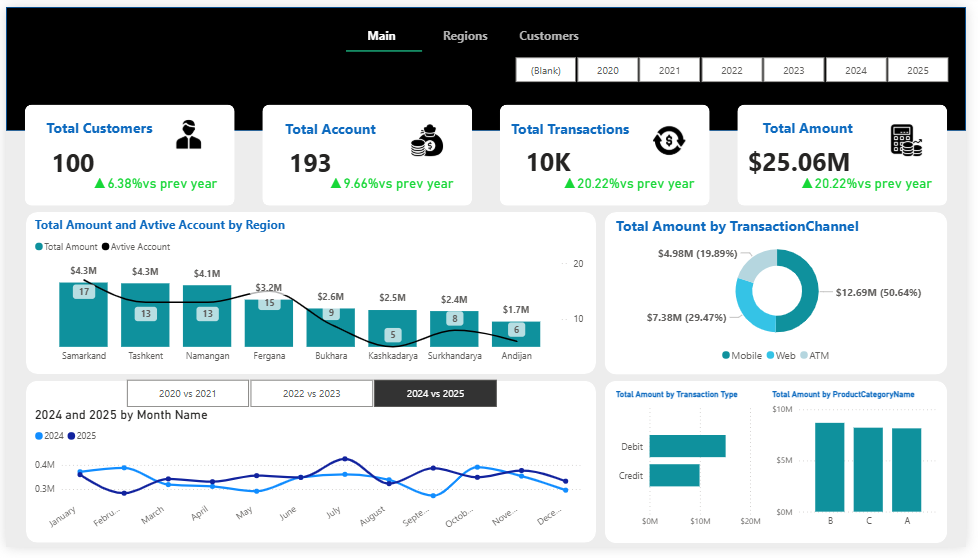

What the dashboard file says about the page in this screenshot:
{"tool":"powerbi","page":{"name":"Main","canvas":[1280,720],"ordinal":0},"visuals":[{"type":"shape","box":[0,0,1280,165],"z":0},{"type":"shape","box":[25,130,280,135],"z":1000},{"type":"shape","box":[341.7,130,280,135],"z":2000},{"type":"shape","box":[975,130,280,135],"z":3000},{"type":"shape","box":[658.3,130,280,135],"z":4000},{"type":"card","fields":{"Values":["Measure Table.total Customers"]},"box":[25,178.8,128.8,57.5],"z":5000},{"type":"textbox","box":[33.8,143.8,187.5,41.2],"z":6000},{"type":"image","box":[209.2,143.8,67.7,53.1],"z":7000},{"type":"slicer","fields":{"Values":["calendar.Year"]},"box":[652.9,60,627.1,47.1],"z":8000},{"type":"card","fields":{"Values":["Measure Table.formatted cusYOY"]},"box":[90,217.1,217.1,38.6],"z":9000},{"type":"card","fields":{"Values":["Measure Table.total account"]},"box":[341.4,178.6,128.6,57.1],"z":10000},{"type":"textbox","box":[341.4,144.3,187.1,41.4],"z":11000},{"type":"image","box":[528.5,152.3,66.9,52.3],"z":12000},{"type":"card","fields":{"Values":["Measure Table.formatted accYOY"]},"box":[404.6,216.9,216.9,38.5],"z":13000},{"type":"card","fields":{"Values":["Measure Table.total trnsaction"]},"box":[658.9,178.9,128.9,56.7],"z":14000},{"type":"textbox","box":[658.9,144.4,187.8,41.1],"z":15000},{"type":"image","box":[846.7,152.2,74.4,53.3],"z":16000},{"type":"card","fields":{"Values":["Measure Table.formatted tranYOY"]},"box":[722.2,216.7,216.7,38.9],"z":17000},{"type":"card","fields":{"Values":["Measure Table.total Amount"]},"box":[976,179,162,57],"z":18000},{"type":"textbox","box":[975.6,143.3,187.8,41.1],"z":19000},{"type":"image","box":[1163.3,152.2,74.4,52.2],"z":20000},{"type":"card","fields":{"Values":["Measure Table.formatted AmoumtYOY"]},"box":[1038.9,216.7,216.7,38.9],"z":21000},{"type":"shape","box":[798.3,273.3,456.7,216.7],"z":22000},{"type":"donutChart","title":"Total Amount by TransactionChannel","fields":{"Category":["FactTransaction.TransactionChannel"],"Y":["Measure Table.total Amount"]},"box":[808.3,278.3,440,205],"z":23000},{"type":"shape","box":[798.3,498.3,456.7,216.7],"z":24000},{"type":"columnChart","title":"Total Amount by ProductCategoryName","fields":{"Category":["DimProductCategory.ProductCategoryName"],"Y":["Measure Table.total Amount"]},"box":[1016.9,510,231.5,193.1],"z":25000},{"type":"barChart","title":"Total Amount by Transaction Type","fields":{"Category":["FactTransaction.TransactionType"],"Y":["Measure Table.total Amount"]},"box":[808.5,510,203.1,193.1],"z":26000},{"type":"shape","box":[26,274,760,216],"z":27000},{"type":"shape","box":[26,498,760,216],"z":28000},{"type":"slicer","fields":{"Values":["2020_2025.year pairs"]},"box":[135,490,543.3,50],"z":29000},{"type":"lineChart","fields":{"Y":["Measure Table.2024","Measure Table.2025"],"Category":["calendar.Month Name"]},"box":[33.3,533.3,741.7,175],"z":30000},{"type":"lineStackedColumnComboChart","title":"Total Amount and Avtive Account by Region","fields":{"Category":["DimCustomer.Region"],"Y2":["Measure Table.Avtive Account"],"Y":["Measure Table.total Amount"]},"box":[33.3,278.3,741.7,205],"z":31000},{"type":"actionButton","box":[556.6,17.1,111.4,40],"z":32000},{"type":"actionButton","box":[668,17.1,111.4,40],"z":33000},{"type":"actionButton","box":[445,17,111.4,40],"z":34000},{"type":"shape","box":[452.9,50,101.4,17.1],"z":35000}]}

Visuals, with their boxes in screenshot pixels (x1, y1, x2, y2), scaled from the page's 1280x720 canvas onto the 978x558 screenshot:
shape: 0:0:977:128
shape: 19:101:233:205
shape: 261:101:475:205
shape: 745:101:959:205
shape: 503:101:717:205
card - Measure Table.total Customers: 19:139:118:183
textbox: 26:111:169:143
image: 160:111:212:153
slicer - calendar.Year: 499:46:977:83
card - Measure Table.formatted cusYOY: 69:168:235:198
card - Measure Table.total account: 261:138:359:183
textbox: 261:112:404:144
image: 404:118:455:159
card - Measure Table.formatted accYOY: 309:168:475:198
card - Measure Table.total trnsaction: 503:139:602:183
textbox: 503:112:647:144
image: 647:118:704:159
card - Measure Table.formatted tranYOY: 552:168:717:198
card - Measure Table.total Amount: 746:139:870:183
textbox: 745:111:889:143
image: 889:118:946:158
card - Measure Table.formatted AmoumtYOY: 794:168:959:198
shape: 610:212:959:380
"Total Amount by TransactionChannel" donutChart: 618:216:954:375
shape: 610:386:959:554
"Total Amount by ProductCategoryName" columnChart: 777:395:954:545
"Total Amount by Transaction Type" barChart: 618:395:773:545
shape: 20:212:601:380
shape: 20:386:601:553
slicer - 2020_2025.year pairs: 103:380:518:418
lineChart - Measure Table.2024 x Measure Table.2025: 25:413:592:549
"Total Amount and Avtive Account by Region" lineStackedColumnComboChart: 25:216:592:375
actionButton: 425:13:510:44
actionButton: 510:13:596:44
actionButton: 340:13:425:44
shape: 346:39:424:52
